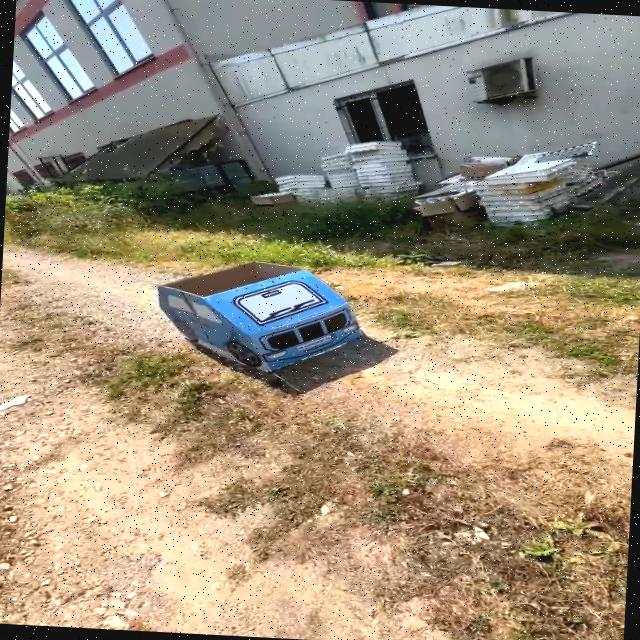blue_car: (123, 242, 388, 399)
